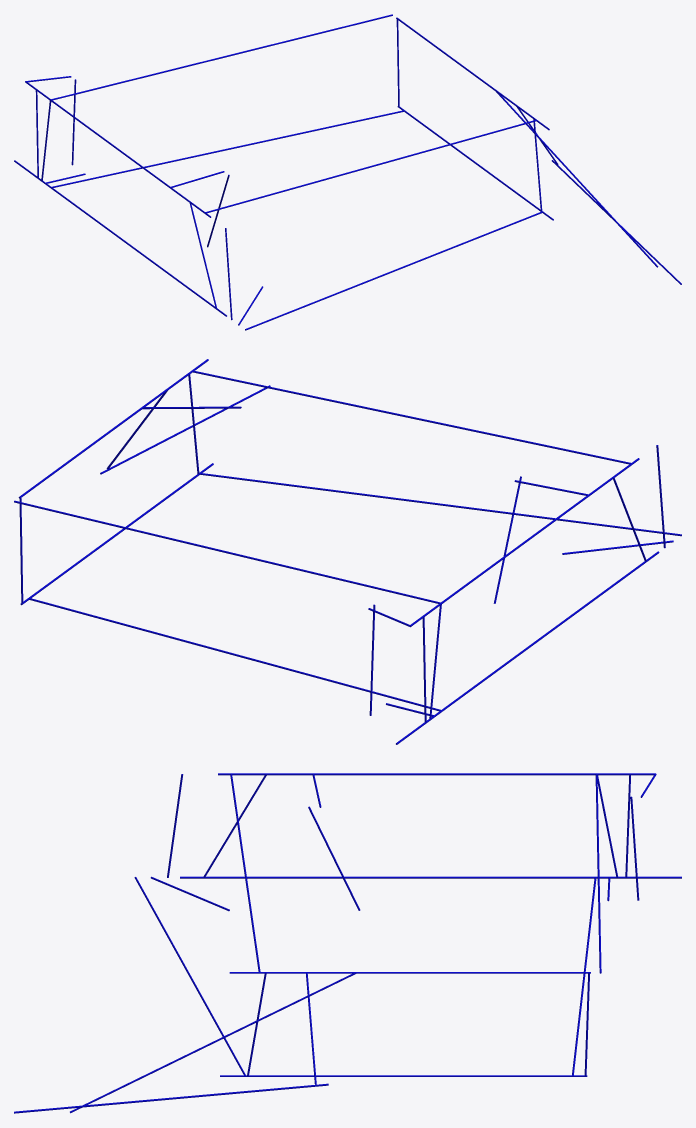
Rendered from corrected_3d_strokes.glb.
3 renders of one model, top to bottom at view 1: azimuth 30°, elevation 25°; view 2: azimuth 150°, elevation 25°; view 3: azimuth 270°, elevation 25°, orthographic. The views are drawn at different scales.
Parts seen in each view (by area): view 1: world; view 2: world; view 3: world.
Boxes of the visible parts, box(x1,y1,x2,y2) form: world: box(14, 14, 681, 330); world: box(14, 359, 681, 744); world: box(14, 773, 681, 1113).
Size of the model in its own units: 10.75 by 2.62 by 13.47.
